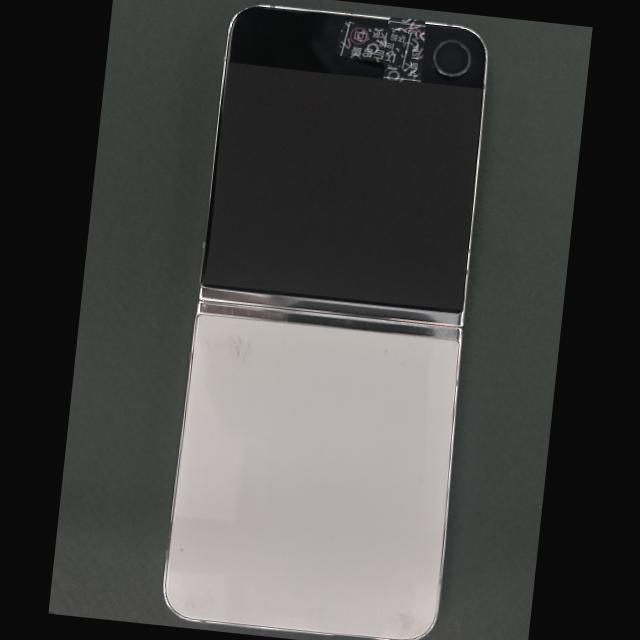lens: (432, 40, 470, 77)
phone: (164, 7, 485, 639)
sticker: (335, 21, 416, 69), (383, 17, 426, 82)
